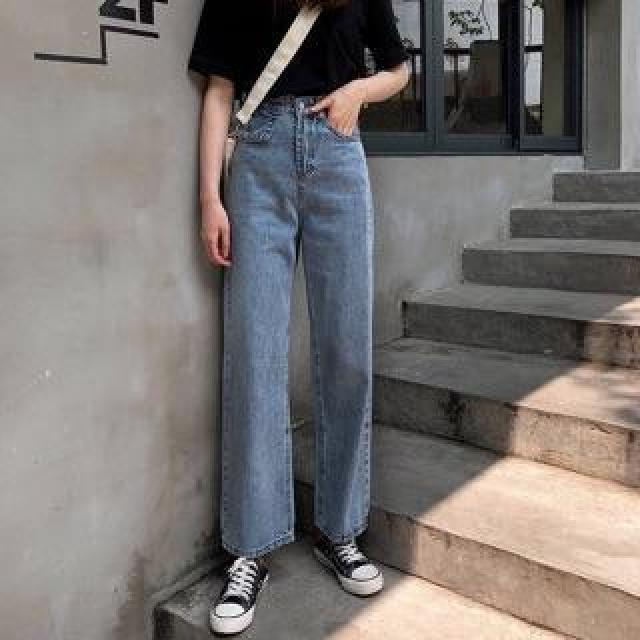Tshirt: (181, 0, 411, 128)
pants: (211, 94, 379, 554)
